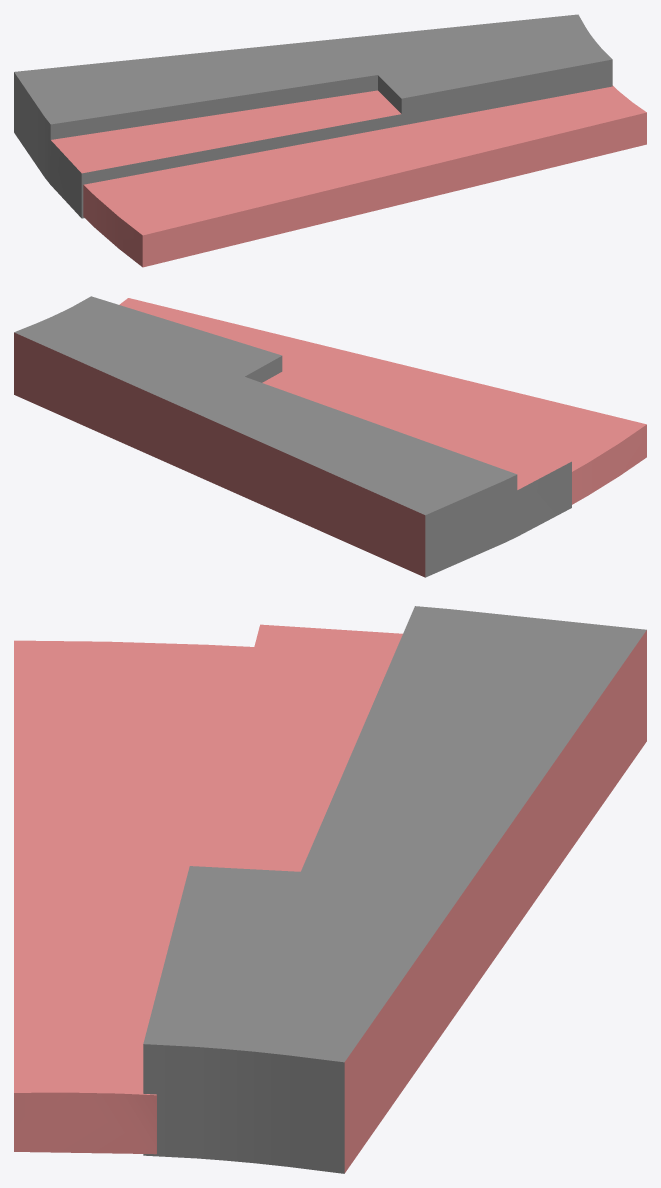
Rendered from S_Envi_Train_Ladder_01a.gltf.
3 renders of one model, top to bottom at view 1: azimuth 30°, elevation 25°; view 2: azimuth 150°, elevation 25°; view 3: azimuth 270°, elevation 25°, orthographic. The views are drawn at different scales.
Visible parts, largest first — view 1: S_Envi_Train_Ladder_01a; view 2: S_Envi_Train_Ladder_01a; view 3: S_Envi_Train_Ladder_01a.
Boxes of the visible parts, box(x1,y1,x2,y2) form: S_Envi_Train_Ladder_01a: box(14, 14, 646, 267); S_Envi_Train_Ladder_01a: box(14, 296, 646, 577); S_Envi_Train_Ladder_01a: box(14, 606, 646, 1173).
Bounding box in the file's own units: 6.33 × 0.6985 × 3.59.
